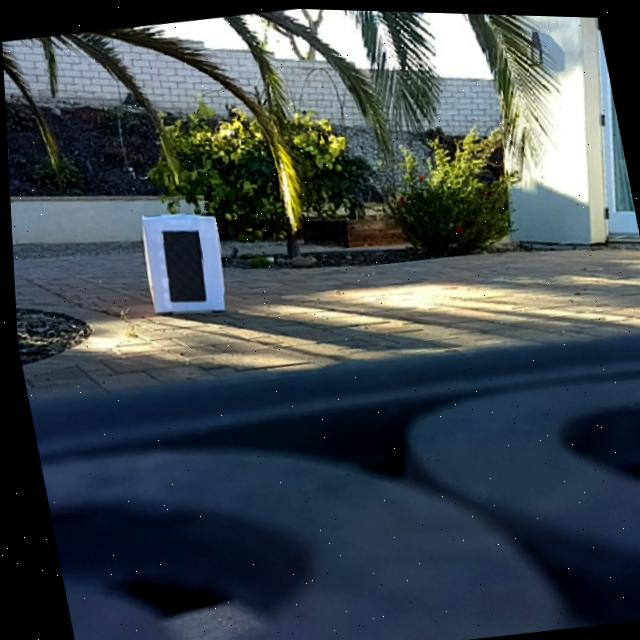led: (156, 225, 208, 305)
